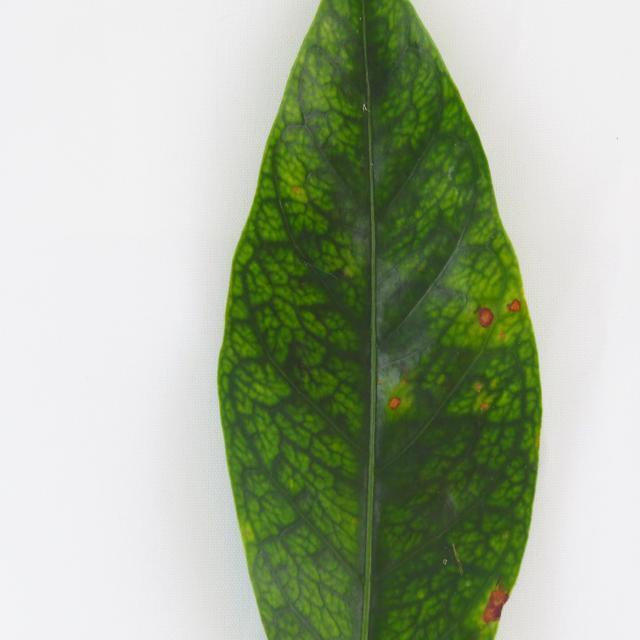DeficienciaNutricional-Manganeso: (219, 2, 541, 638)
